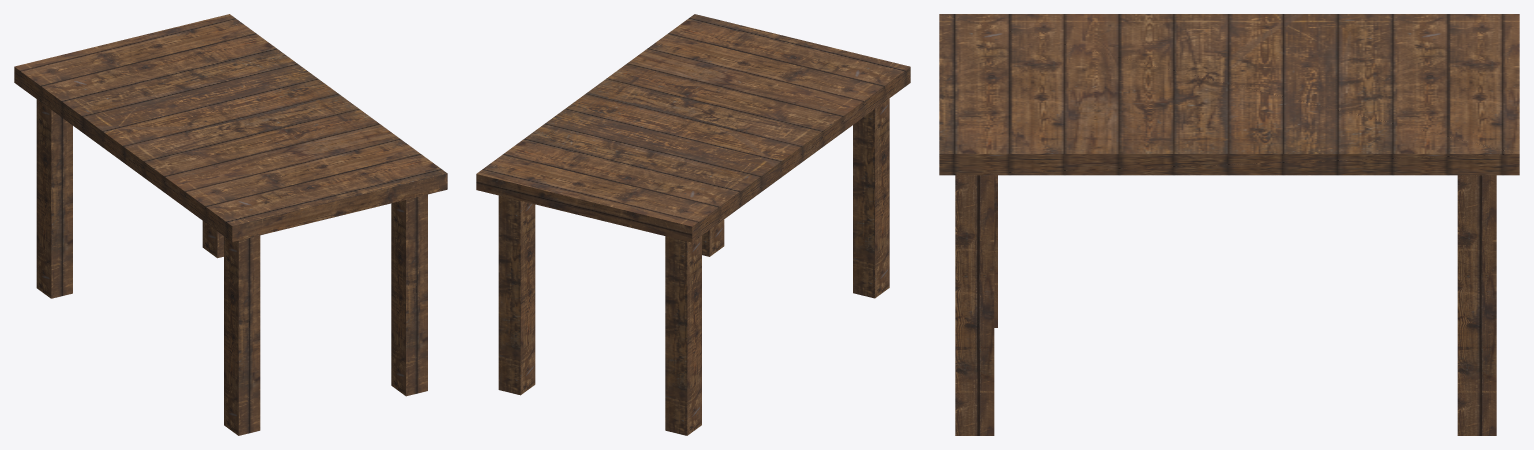
File: Table (1).fbx
3 views of the same model, side by side, from view 1: azimuth 30°, elevation 25°; view 2: azimuth 150°, elevation 25°; view 3: azimuth 270°, elevation 25° (orthographic). The views are drawn at different scales.
Visible parts, largest first — view 1: Plank1.001; view 2: Plank1.001; view 3: Plank1.001.
Boxes of the visible parts, x1,y1,x2,y2 form: Plank1.001: (14, 14, 447, 435); Plank1.001: (476, 14, 910, 435); Plank1.001: (939, 14, 1519, 435).
Bounding box in the file's own units: 224 × 217 × 393.
